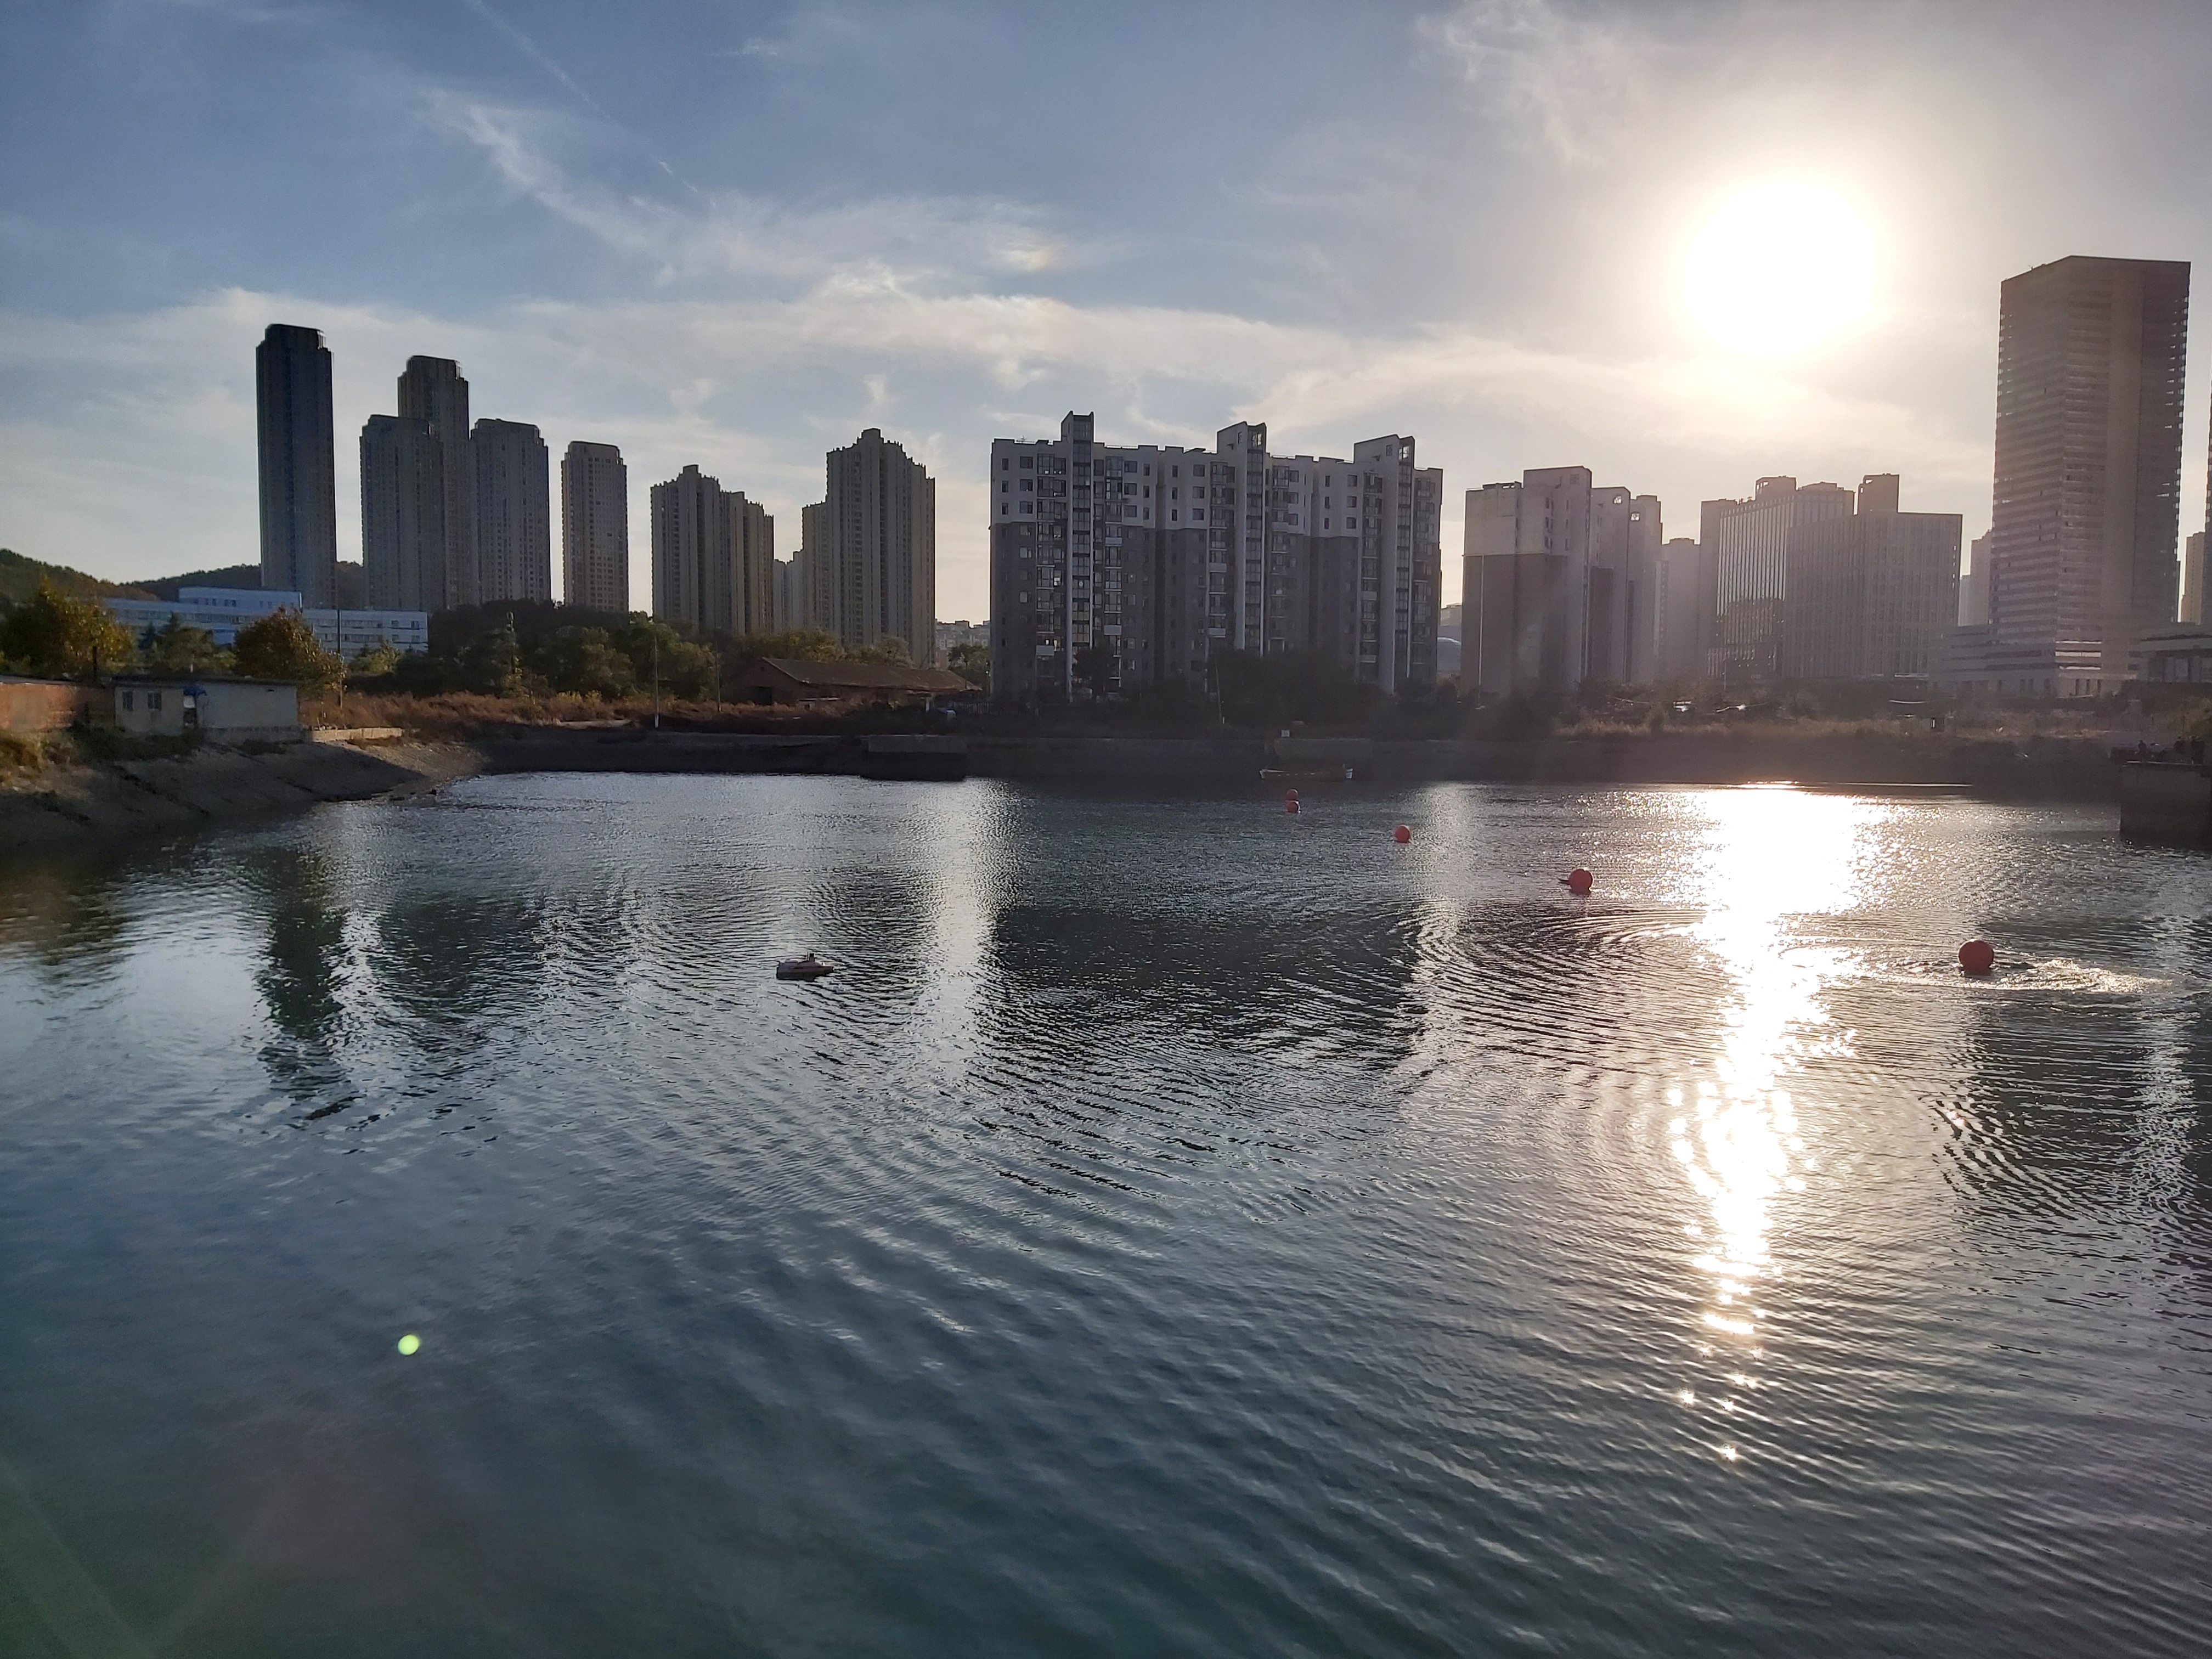ball: (1564, 864, 1592, 897)
boat: (773, 955, 845, 983), (1956, 927, 1991, 981)
